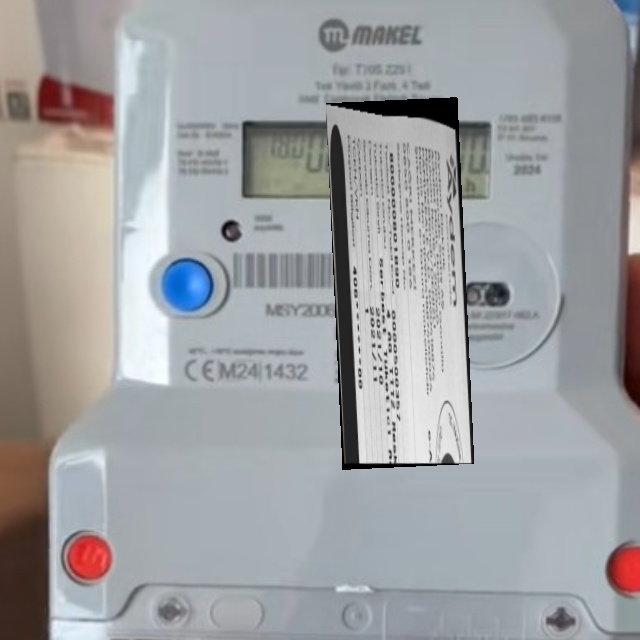electricity-bill: (326, 97, 474, 470)
